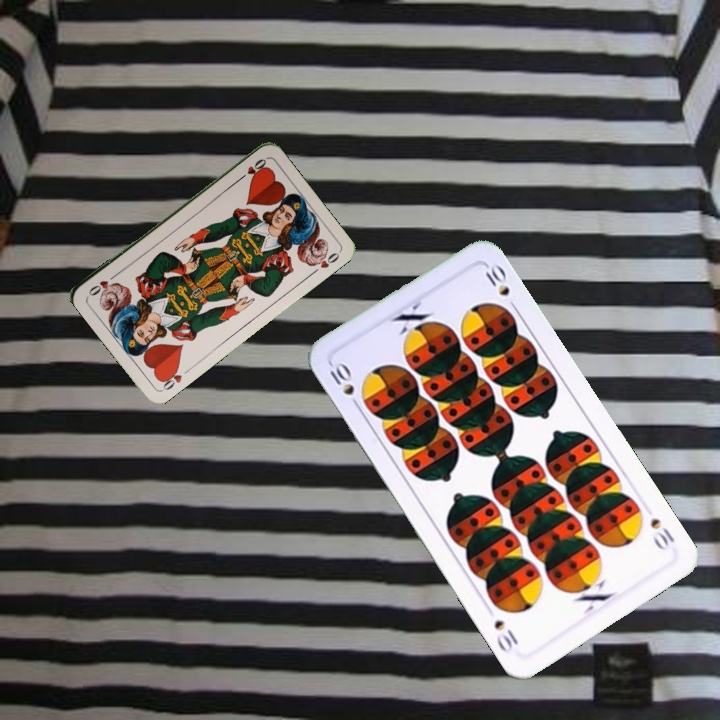HO: (234, 154, 269, 183), (156, 363, 184, 394)
S10: (325, 357, 363, 413), (646, 513, 677, 553)
